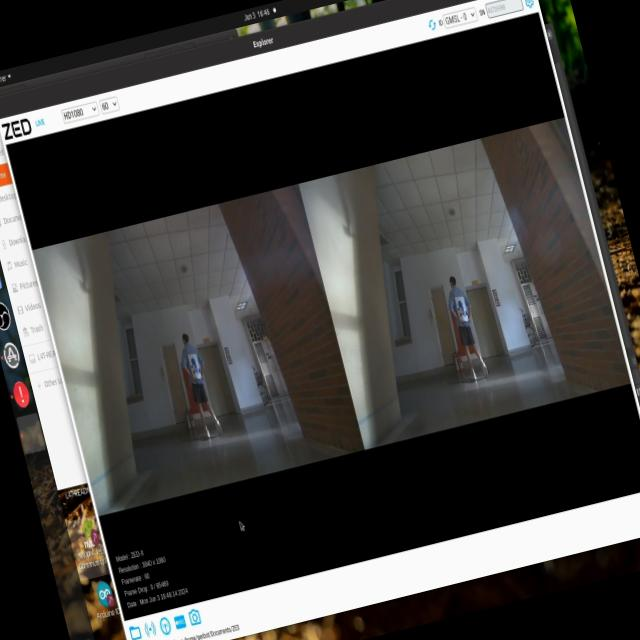blue: (450, 297, 475, 331), (185, 354, 201, 382)
